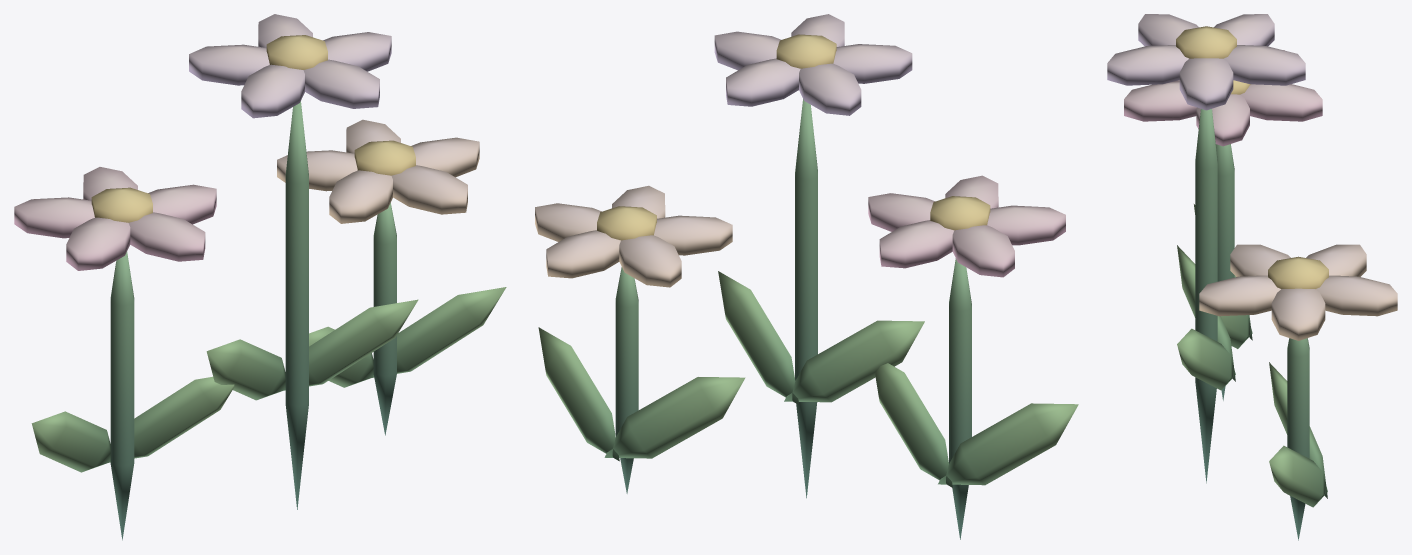
Rendered from Sky_Star_Blossom_Cluster.glb.
3 views of the same model, side by side, from view 1: azimuth 30°, elevation 25°; view 2: azimuth 150°, elevation 25°; view 3: azimuth 270°, elevation 25° (orthographic). The views are drawn at different scales.
Visible parts, largest first — view 1: Sky_Star_Blossom_Cluster; view 2: Sky_Star_Blossom_Cluster; view 3: Sky_Star_Blossom_Cluster.
Boxes of the visible parts, x1,y1,x2,y2 form: Sky_Star_Blossom_Cluster: (14,14,506,540); Sky_Star_Blossom_Cluster: (535,14,1078,539); Sky_Star_Blossom_Cluster: (1107,14,1397,540).
Size of the model in its own units: 0.6809 by 0.5996 by 0.3473.
